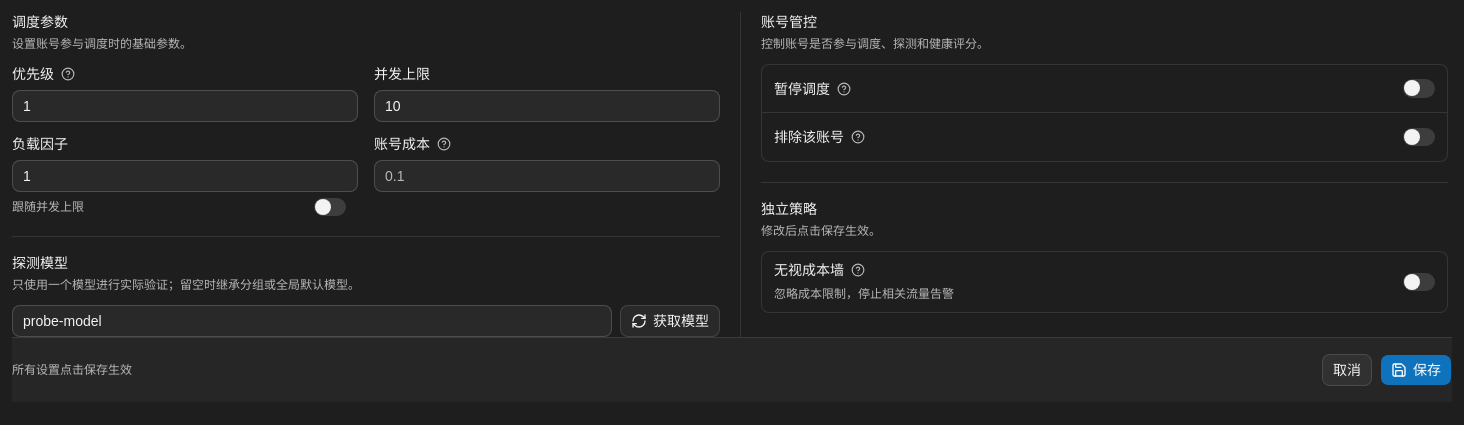
it: 清空 负载因子 后提交会关联错误并标记无效，修正后清除
Clear the number field named "负载因子" at (185, 176), box [12,160,358,192]
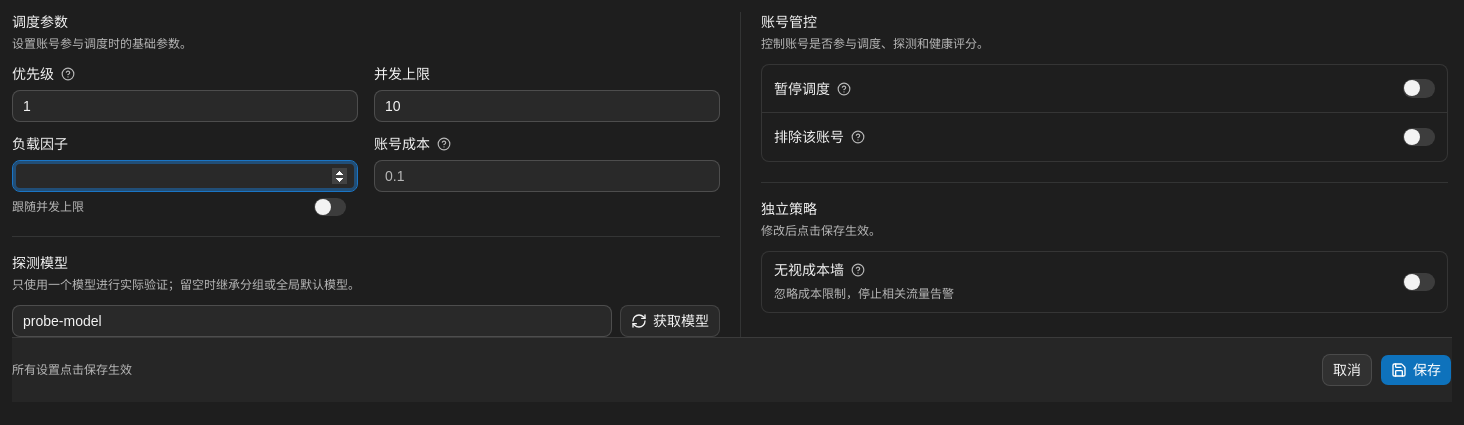
Click the button "保存".
click(1416, 370)  # box [1380,354,1452,386]
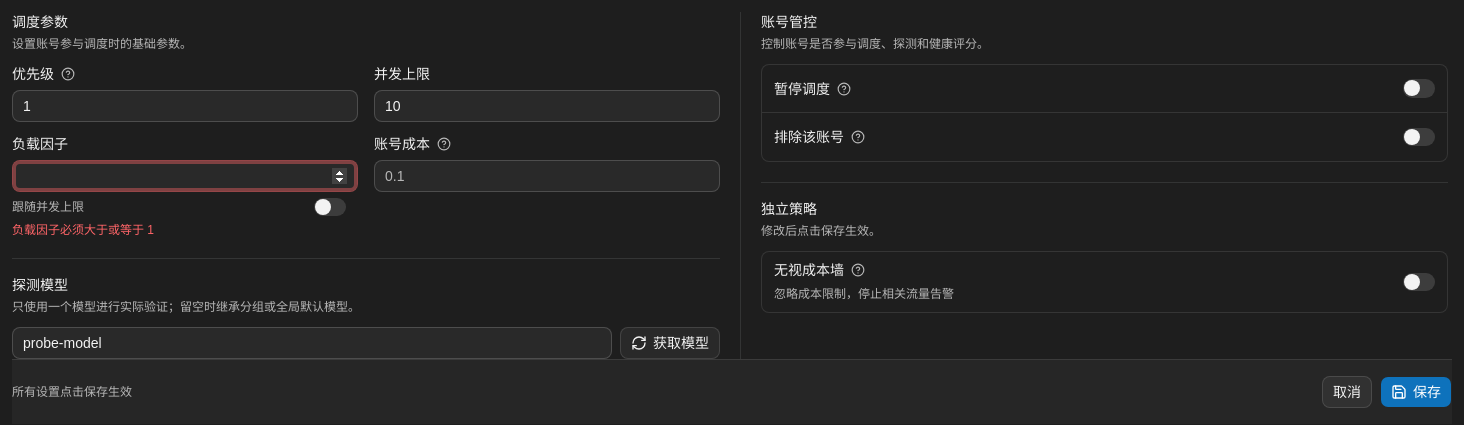
expect the text "负载因子必须大于或等于 1" is shown: met, box [12,223,154,237]
Type "2" into the number field named "负载因子".
click(185, 176); type("2")  # box [12,160,358,192]
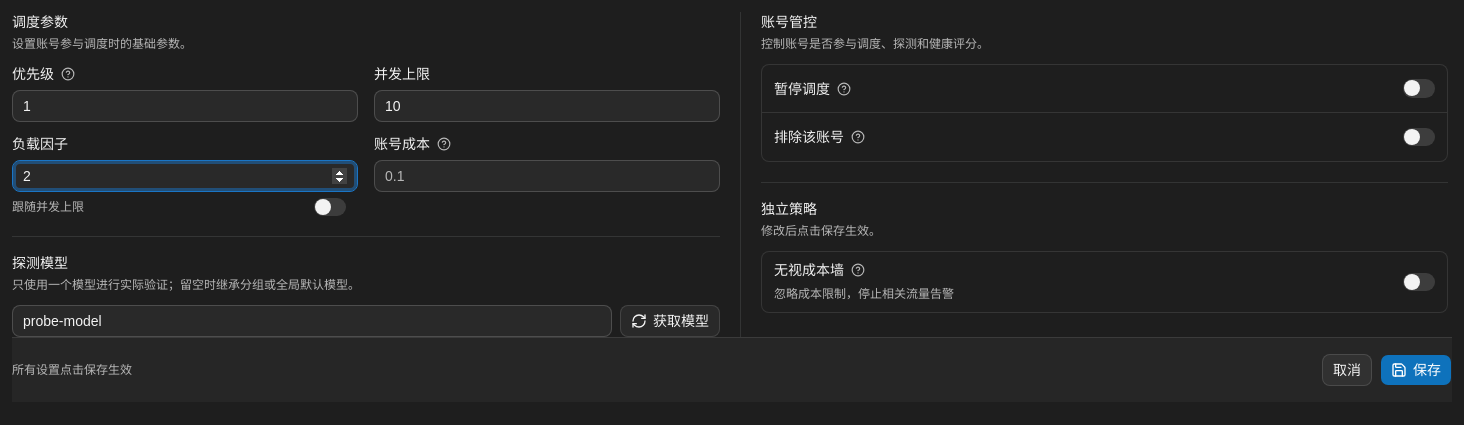
expect the text "负载因子必须大于或等于 1" is gone: met
